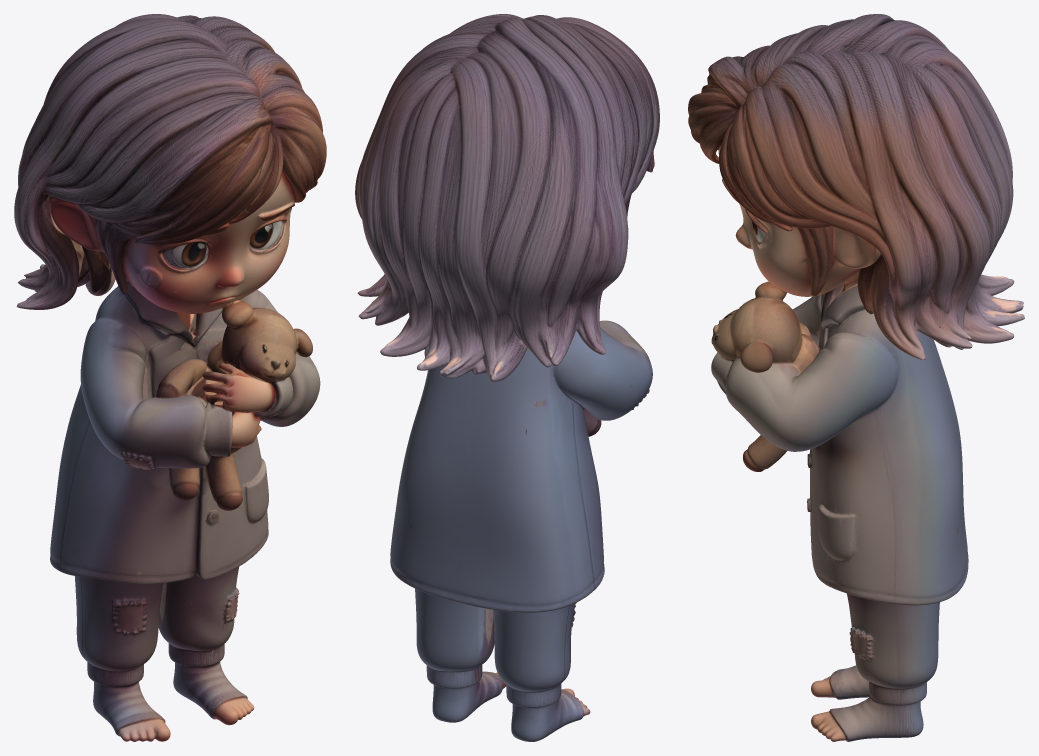
Rendered from wounded_child.glb.
The picture shows the model from 3 angles, left to right: view 1: azimuth 30°, elevation 25°; view 2: azimuth 150°, elevation 25°; view 3: azimuth 270°, elevation 25°; orthographic projection. The views are drawn at different scales.
Size of the model in its own units: 0.7792 by 1.9 by 0.8408.
1 material, 1 textured.
